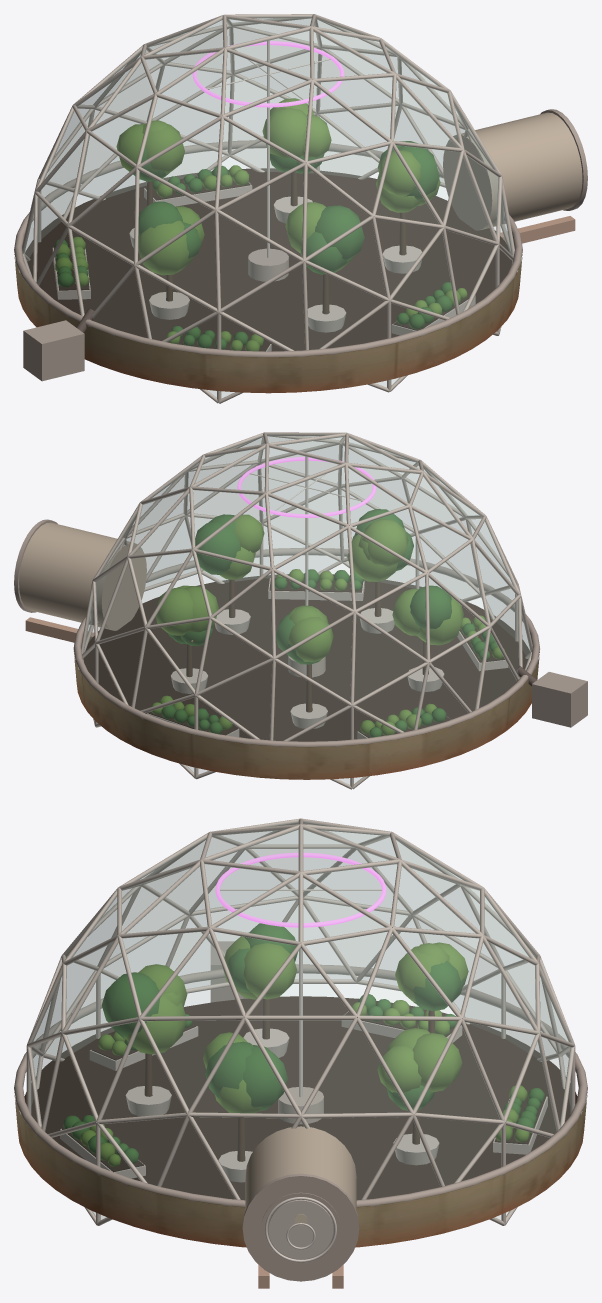
Rendered from A06_greenhouse_dome_12m.glb.
3 views of the same model, one above another, from view 1: azimuth 30°, elevation 25°; view 2: azimuth 150°, elevation 25°; view 3: azimuth 270°, elevation 25° (orthographic). The views are drawn at different scales.
Visible parts, largest first — view 1: strut, dome_glazing, ring_wall, ring_beam, grow_light_ring, tunnel_cradle, seal; view 2: strut, dome_glazing, ring_wall, ring_beam, grow_light_ring, tunnel_cradle, seal; view 3: dome_glazing, strut, ring_wall, ring_beam, grow_light_ring, seal.
Boxes of the visible parts, x1,y1,x2,y2 form: strut: [22, 14, 582, 403]; dome_glazing: [23, 16, 513, 398]; ring_wall: [14, 254, 522, 393]; ring_beam: [14, 109, 587, 381]; grow_light_ring: [192, 41, 344, 107]; tunnel_cradle: [500, 216, 575, 243]; seal: [207, 40, 330, 257]; strut: [19, 432, 536, 789]; dome_glazing: [82, 434, 531, 784]; ring_wall: [73, 651, 539, 779]; ring_beam: [14, 519, 587, 746]; grow_light_ring: [237, 457, 376, 517]; tunnel_cradle: [25, 617, 94, 642]; seal: [249, 456, 363, 605]; dome_glazing: [29, 821, 572, 1219]; strut: [24, 818, 577, 1259]; ring_wall: [14, 1092, 587, 1247]; ring_beam: [14, 941, 587, 1281]; grow_light_ring: [215, 852, 386, 927]; seal: [220, 889, 381, 1262].
Bounding box in the file's own units: 15.86 × 7.18 × 12.4.
8 materials, 1 textured.
